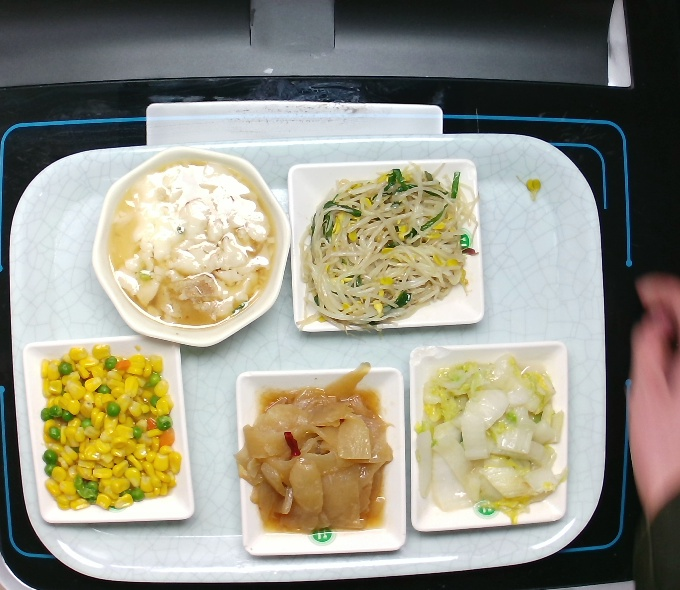wcq-DaBaiCai: (407, 352, 576, 529)
wcq-DongGua: (226, 358, 403, 541)
wcq-DouYa: (289, 157, 491, 344)
wcq-ShuiZhengDan: (99, 148, 283, 337)
wcq-TianMiTianDou: (36, 341, 186, 519)
